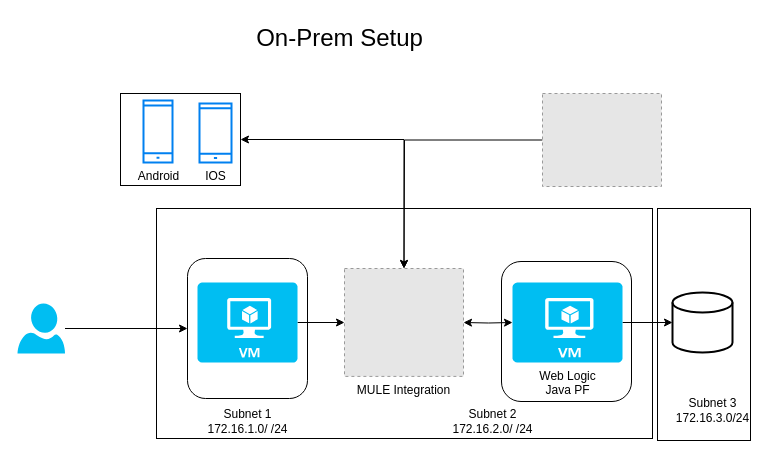
Some shapes in this 774 by 458 pixel diagram are drawn without their labels. Grey dashed boxes stand in for pictures. The shapes that lost their labels are listed below. From the top down, each one's box as (x1, y1, x2, y2) in pixels, then its label:
(197, 282, 297, 362): UI .Net Framework
(671, 291, 733, 353): Oracle DB
